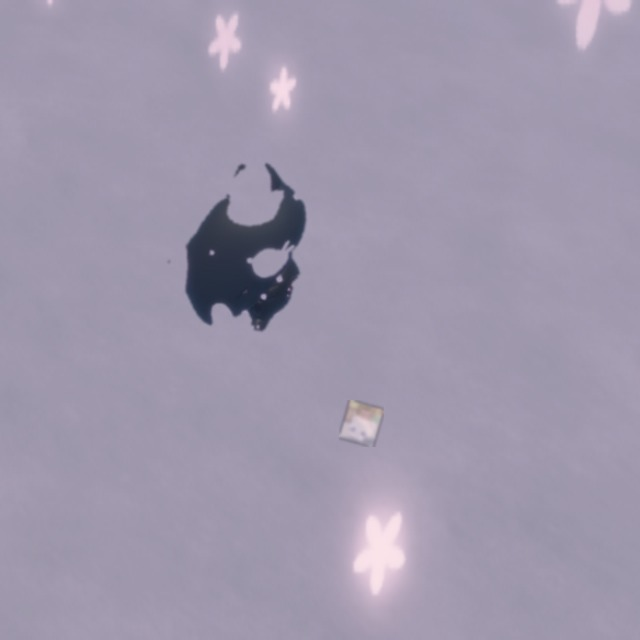urso_branco: (339, 400, 384, 447)
urso_preto: (127, 117, 366, 384)
